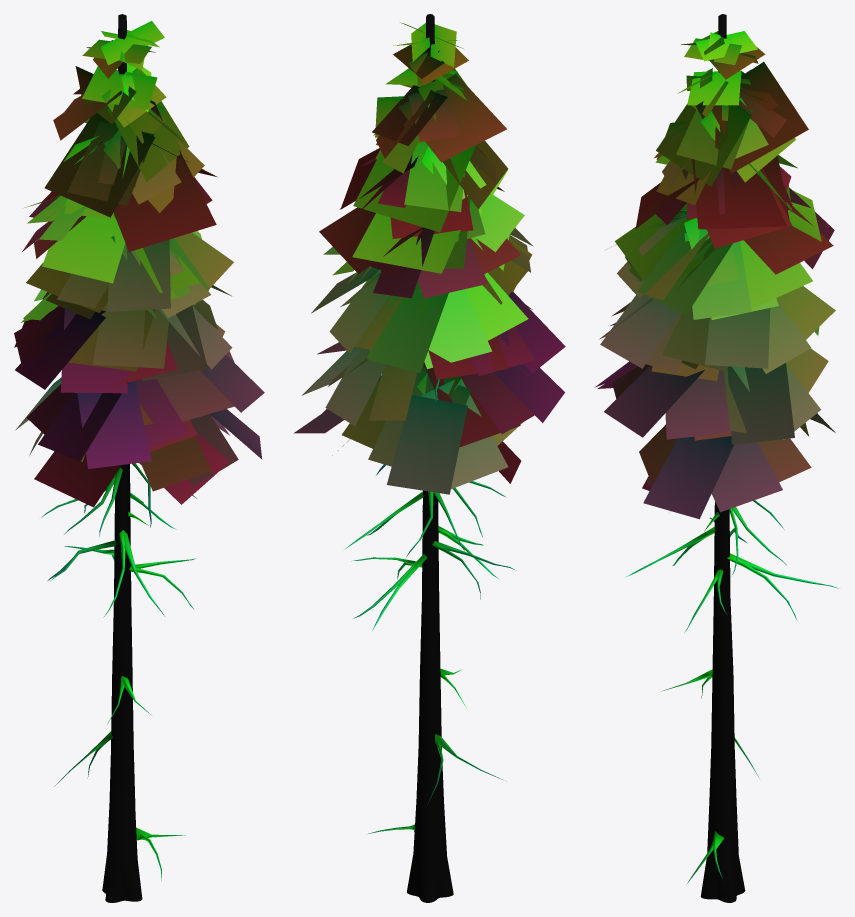
Rendered from M_Pine_4_11.fbx.
3 views of the same model, side by side, from view 1: azimuth 30°, elevation 25°; view 2: azimuth 150°, elevation 25°; view 3: azimuth 270°, elevation 25° (orthographic).
Visible parts, largest first — view 1: Tree_11; view 2: Tree_11; view 3: Tree_11.
Part boxes in pixels (bbox=[...]): Tree_11: bbox=[14, 14, 264, 902]; Tree_11: bbox=[294, 14, 565, 902]; Tree_11: bbox=[594, 14, 838, 902].
Size of the model in its own units: 962 by 3488 by 887.
